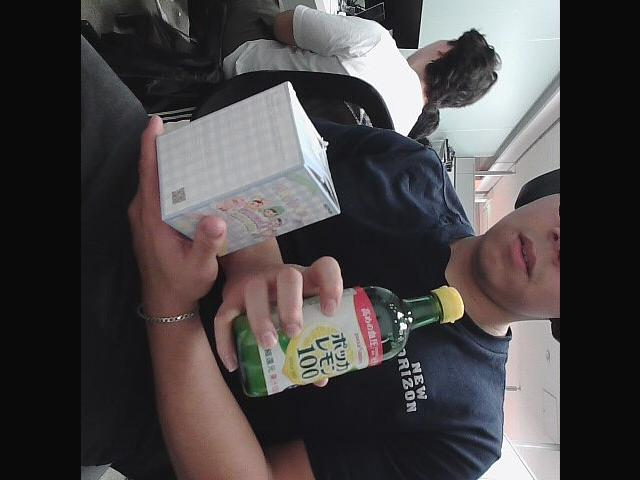Blind_box: (154, 86, 338, 260)
Lemon_sapporo: (232, 275, 466, 411)
